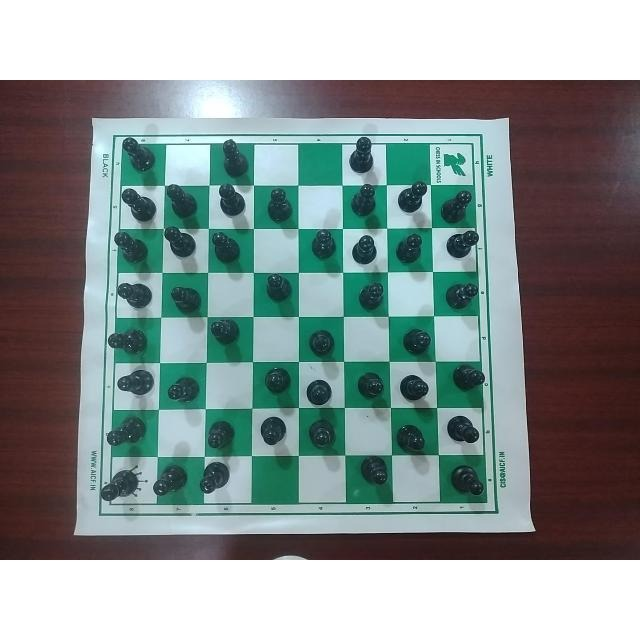black-pawn: (98, 463, 145, 505), (106, 411, 148, 450), (447, 462, 487, 499), (114, 369, 158, 402), (301, 418, 339, 456), (150, 464, 189, 500), (196, 461, 232, 500), (215, 138, 250, 178), (438, 185, 473, 225), (443, 362, 485, 394), (394, 419, 431, 455), (396, 178, 430, 217), (255, 414, 289, 453), (442, 414, 481, 448), (118, 136, 154, 172), (121, 187, 157, 223), (161, 225, 197, 261), (110, 231, 148, 265), (442, 229, 480, 263), (355, 455, 393, 489), (394, 230, 426, 270), (103, 328, 148, 356), (302, 327, 340, 360), (205, 416, 238, 454), (347, 230, 379, 269), (441, 280, 480, 312), (164, 182, 198, 218), (214, 182, 248, 218), (167, 282, 203, 316), (394, 370, 431, 403), (344, 135, 376, 173), (209, 228, 241, 266), (116, 280, 154, 312), (165, 374, 203, 406), (263, 185, 294, 224), (207, 316, 241, 351), (307, 229, 338, 265), (353, 280, 387, 312), (398, 324, 432, 356), (258, 274, 294, 304), (348, 181, 376, 218), (261, 365, 293, 397), (352, 371, 384, 402), (303, 377, 335, 407)
